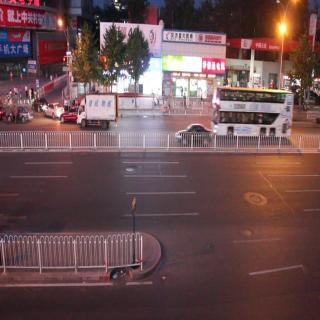BigCar: (213, 89, 293, 143), (77, 94, 118, 130)
Car: (176, 125, 212, 144), (2, 102, 30, 125), (59, 108, 78, 124), (44, 104, 62, 119), (33, 96, 47, 112)
